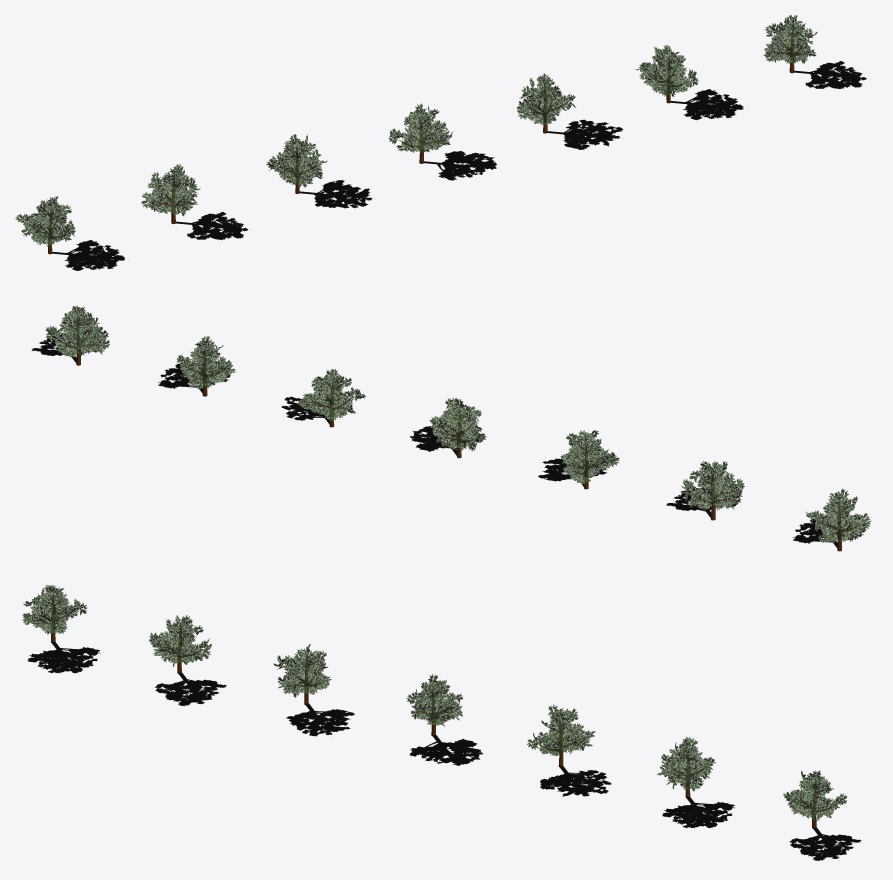
File: treelineEW4.glb
3 renders of one model, top to bottom at view 1: azimuth 30°, elevation 25°; view 2: azimuth 150°, elevation 25°; view 3: azimuth 330°, elevation 25°, orthographic. The views are drawn at different scales.
Parts seen in each view (by area): view 1: tree0; view 2: tree0; view 3: tree0.
Boxes of the visible parts, x1,y1,x2,y2 form: tree0: (26, 28, 866, 270); tree0: (31, 318, 864, 551); tree0: (27, 592, 861, 860).
Bounding box in the file's own units: 170 × 11.52 × 20.62.
Materials: 7 (6 with a texture image).
